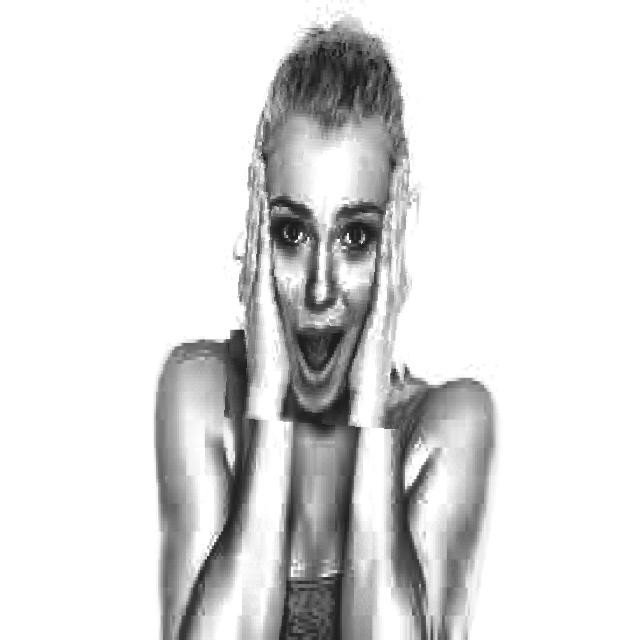surprise: (230, 28, 421, 427)
